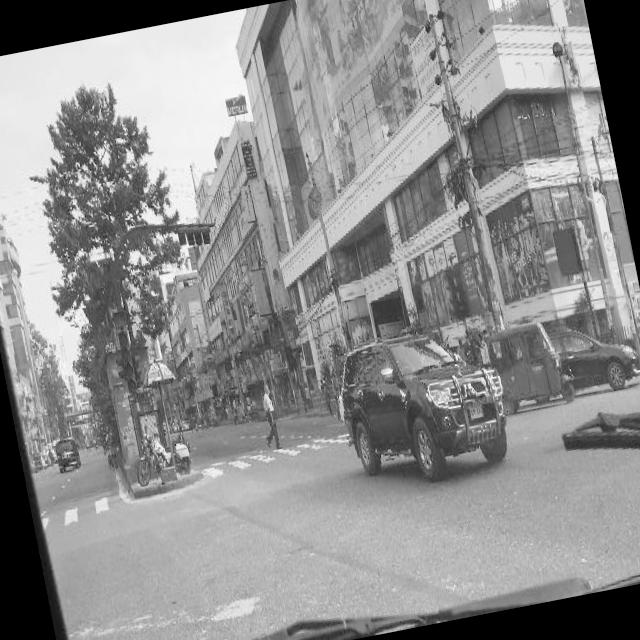car: (338, 326, 508, 490), (562, 315, 640, 398), (180, 418, 190, 430)
motorcycle: (485, 318, 565, 414), (132, 433, 196, 487), (30, 449, 42, 473), (231, 411, 239, 424), (92, 438, 96, 448)
truck: (53, 434, 82, 472)
